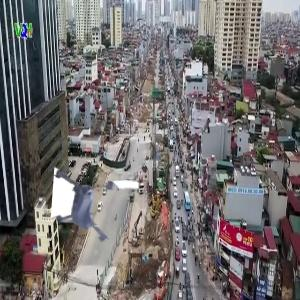drone: (52, 169, 145, 262)
